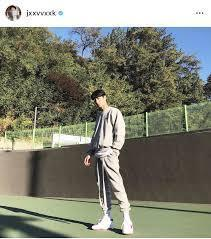pants: (90, 144, 136, 218)
sweater: (79, 106, 126, 162)
